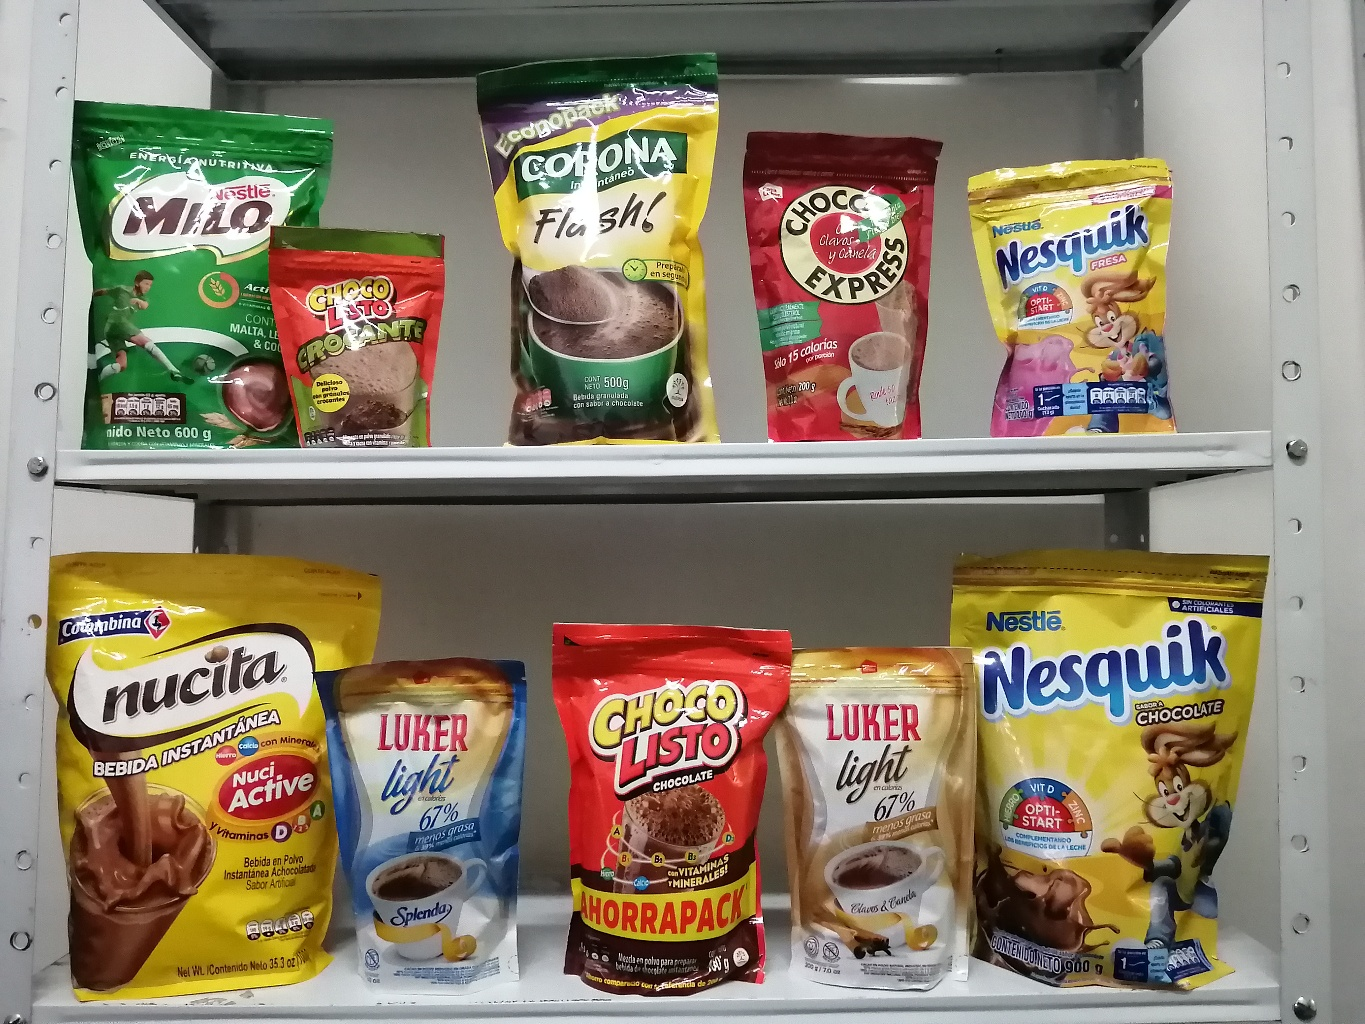COL0170102DYP10000: (256, 212, 452, 457)
COL0170103DYP40000: (526, 598, 810, 1001)
COL0170305DYP20000: (949, 145, 1213, 447)
